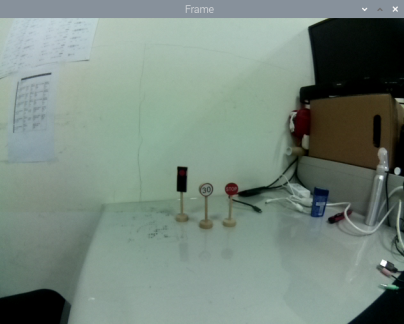Red: (174, 165, 189, 196)
Speed30: (197, 179, 215, 200)
Stop: (221, 181, 241, 199)
